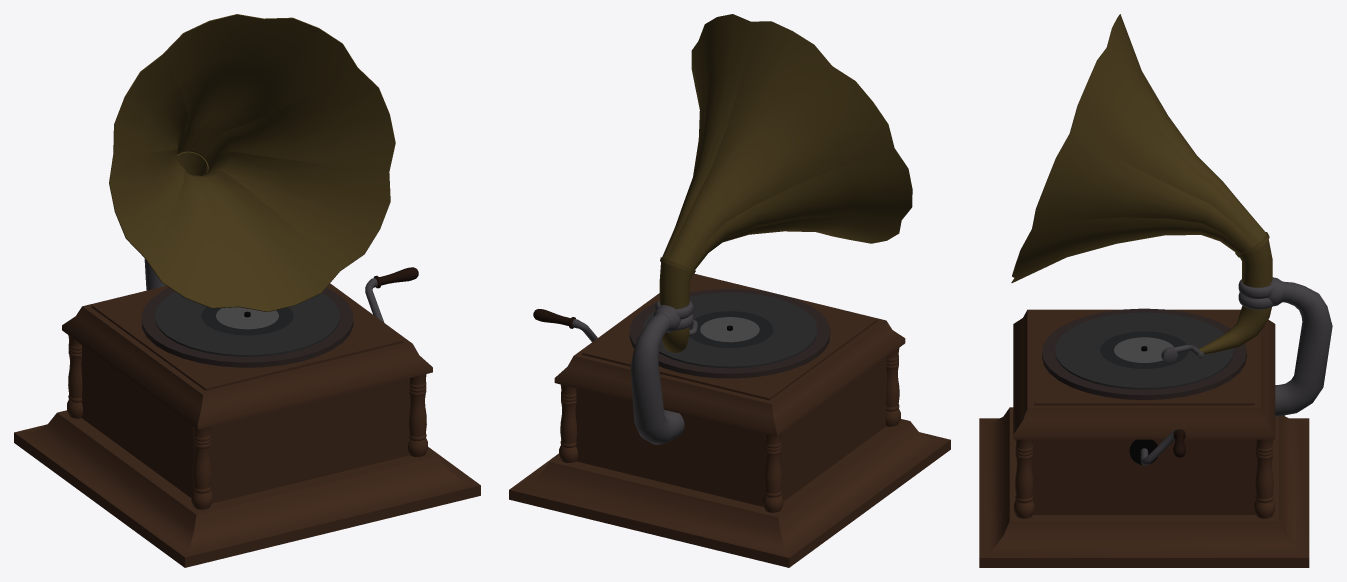
The model's file is V_Cesar01_Gramophone.fbx.
3 views of the same model, side by side, from view 1: azimuth 30°, elevation 25°; view 2: azimuth 150°, elevation 25°; view 3: azimuth 270°, elevation 25° (orthographic). The views are drawn at different scales.
Visible parts, largest first — view 1: Gramophone; view 2: Gramophone; view 3: Gramophone.
Boxes of the visible parts, box(x1,y1,x2,y2) form: Gramophone: box(14, 14, 480, 567); Gramophone: box(509, 14, 950, 567); Gramophone: box(979, 14, 1332, 567).
Size of the model in its own units: 37.32 by 47.99 by 33.57.
